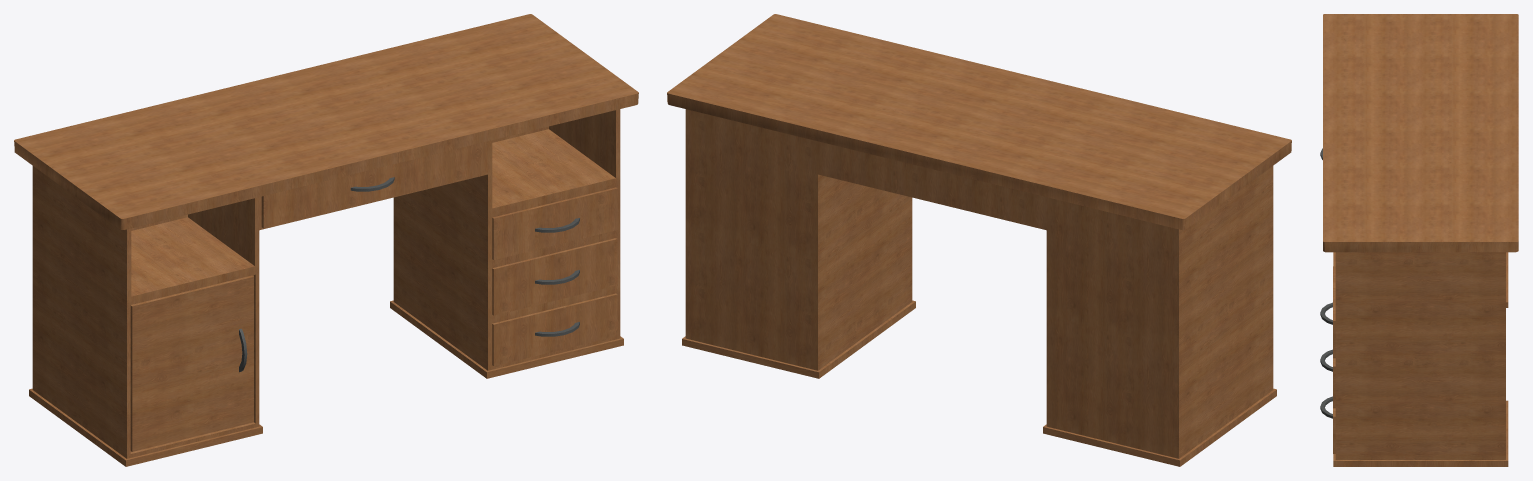
The model's file is Desk.FBX.
The picture shows the model from 3 angles, left to right: view 1: azimuth 30°, elevation 25°; view 2: azimuth 150°, elevation 25°; view 3: azimuth 270°, elevation 25°; orthographic projection. The views are drawn at different scales.
Visible parts, largest first — view 1: Desk; view 2: Desk; view 3: Desk.
Boxes of the visible parts, box(x1,y1,x2,y2) form: Desk: box(14, 14, 638, 466); Desk: box(667, 14, 1291, 466); Desk: box(1320, 14, 1518, 466).
Bounding box in the file's own units: 158 × 74.25 × 58.19.
